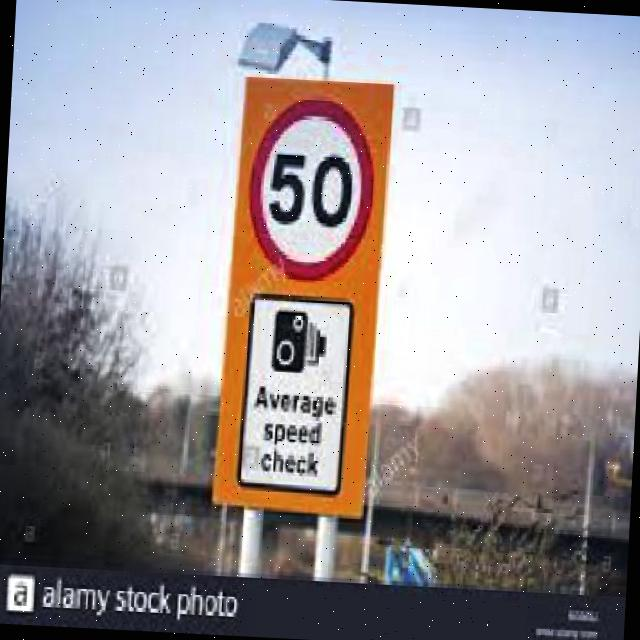Ograniczenie predkosci do 50: (244, 90, 381, 286)
